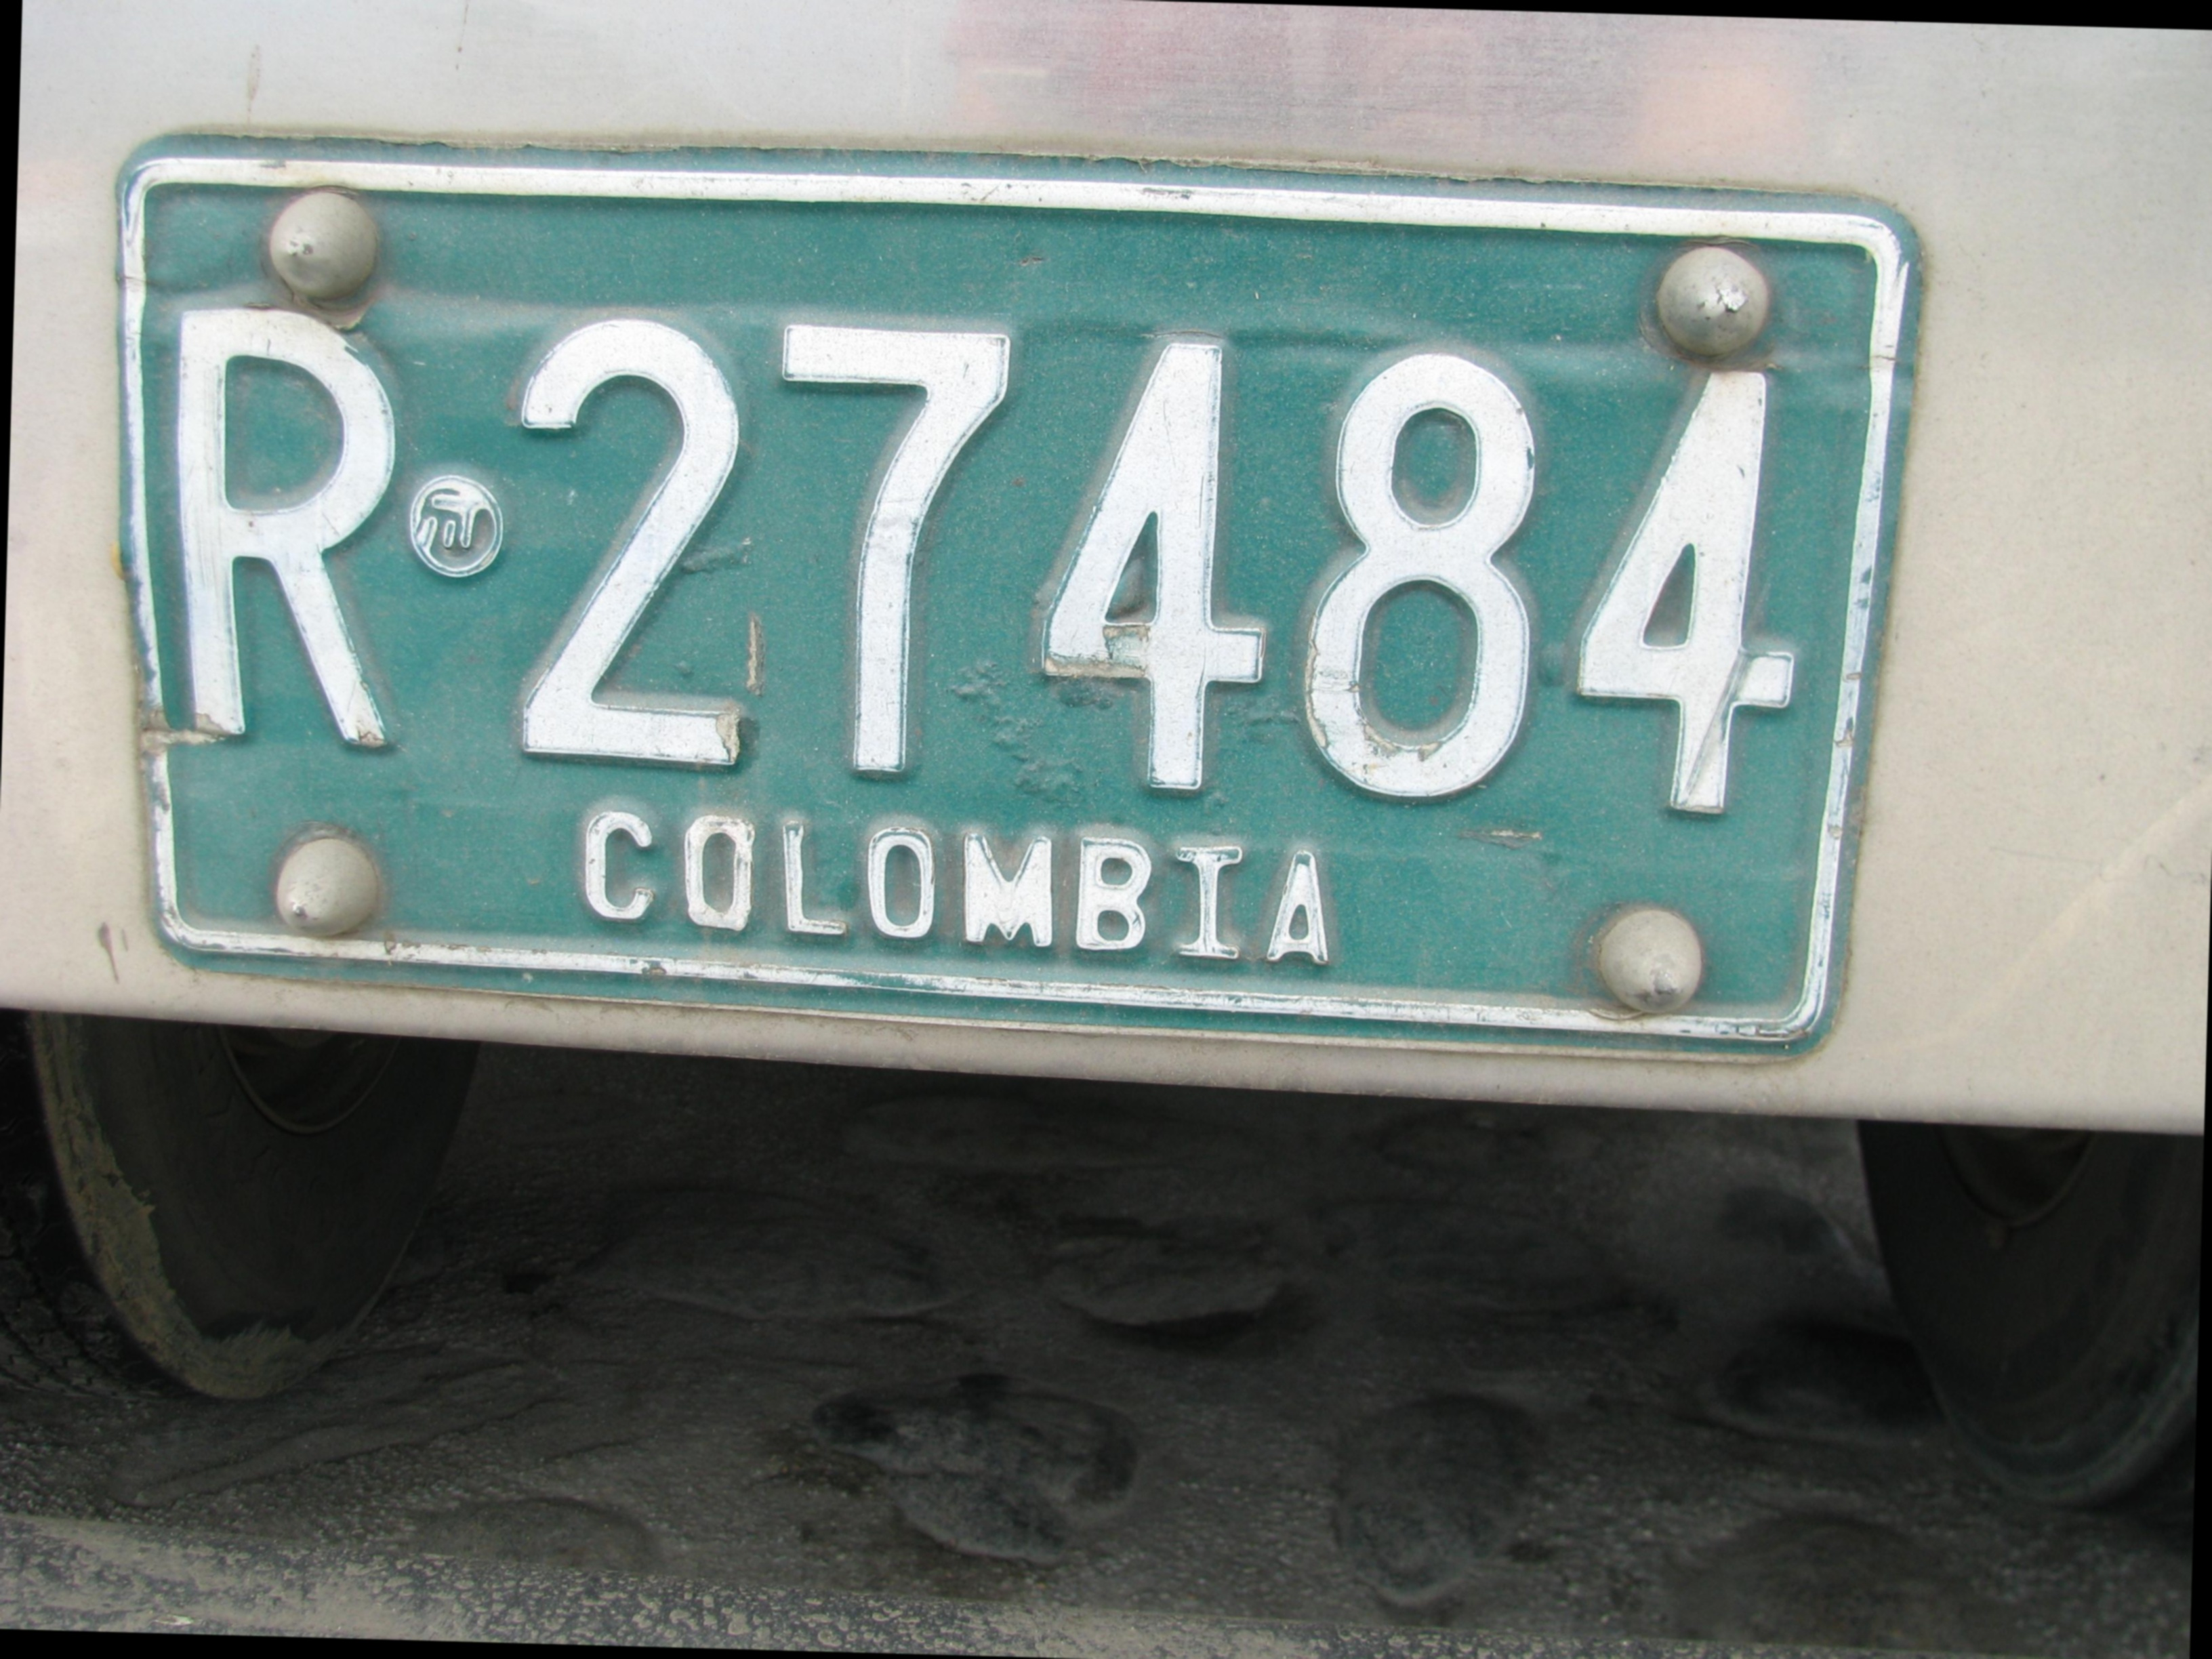placas: (87, 107, 1942, 1078)
